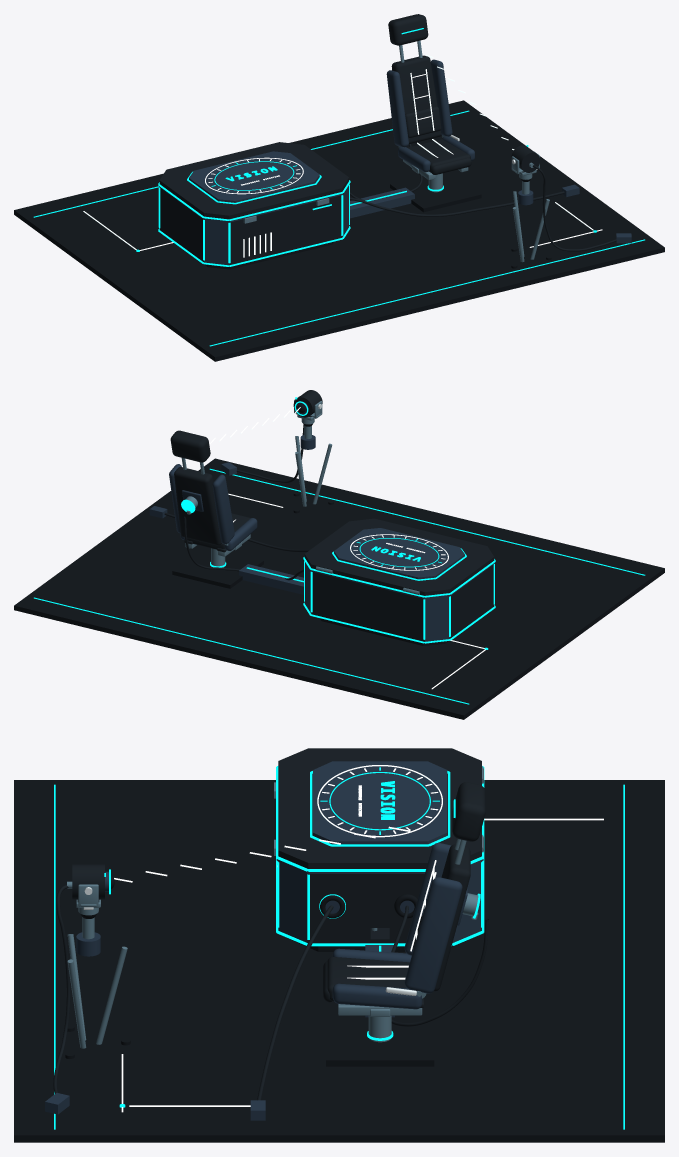
The model's file is vision_device.glb.
The picture shows the model from 3 angles, top to bottom: view 1: azimuth 30°, elevation 25°; view 2: azimuth 150°, elevation 25°; view 3: azimuth 270°, elevation 25°; orthographic projection. The views are drawn at different scales.
Visible parts, largest first — view 1: base_tablero, tapa_panel, panel_frontal, tapa_plateau, respaldo_panel, panel_izq, asiento_placa_base, respaldo_bolster_izq, panel_chaflan_4, apoyacabeza, canal_cuerpo, asiento_cojin (+5 smaller); view 2: base_tablero, tapa_panel, panel_trasero, tapa_plateau, respaldo_panel, panel_izq, asiento_placa_base, canal_cuerpo, panel_chaflan_3, apoyacabeza, respaldo_bolster_izq, base_marco_n (+1 smaller); view 3: base_tablero, tapa_panel, tapa_plateau, panel_der_pasacable, asiento_placa_base, respaldo_bolster_der, asiento_cojin, panel_chaflan_1, apoyacabeza, asiento_cojin_bolster_der, respaldo_panel, respaldo_bolster_izq (+12 smaller).
Part boxes in pixels (x1,y1,x2,y2): base_tablero: (14,100,664,361); tapa_panel: (159,142,348,219); panel_frontal: (229,195,342,265); tapa_plateau: (189,151,319,202); respaldo_panel: (391,55,441,144); panel_izq: (159,188,203,261); asiento_placa_base: (390,171,481,212); respaldo_bolster_izq: (386,70,408,147); panel_chaflan_4: (204,219,229,265); apoyacabeza: (388,14,428,45); canal_cuerpo: (350,187,414,218); asiento_cojin: (407,139,470,172); base_tablero: (14,458,664,719); tapa_panel: (304,518,494,595); panel_trasero: (311,572,424,641); tapa_plateau: (334,528,464,579); respaldo_panel: (174,467,221,545); panel_izq: (450,564,494,638); asiento_placa_base: (172,547,263,588); canal_cuerpo: (239,564,303,594); panel_chaflan_3: (424,595,449,641); apoyacabeza: (170,430,210,462); respaldo_bolster_izq: (212,474,234,544); base_marco_n: (34,597,469,704); base_tablero: (14,780,664,1142); tapa_panel: (278,748,481,868); tapa_plateau: (313,761,447,844); panel_der_pasacable: (308,874,424,943); asiento_placa_base: (326,1014,434,1066); respaldo_bolster_der: (404,877,462,993); asiento_cojin: (327,957,409,1001); panel_chaflan_1: (278,861,308,942); apoyacabeza: (452,782,485,841); asiento_cojin_bolster_der: (332,983,422,1009); respaldo_panel: (434,844,470,991); respaldo_bolster_izq: (404,843,451,955).
Size of the model in its own units: 0.62 by 0.2102 by 0.48.
